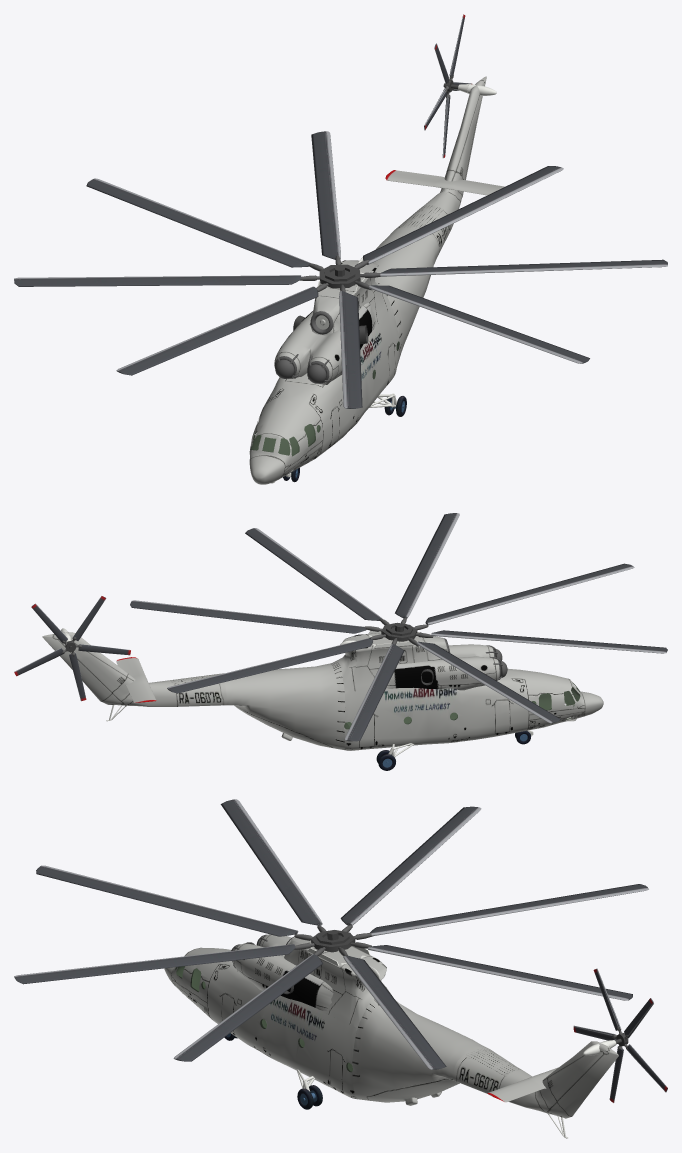
The picture shows the model from 3 angles, top to bottom: view 1: azimuth 30°, elevation 25°; view 2: azimuth 150°, elevation 25°; view 3: azimuth 270°, elevation 25°; orthographic projection. The views are drawn at different scales.
Visible parts, largest first — view 1: FUZEL-FACES, Object04-FACES, Object03-FACES, Cylinder60-FACES, Cylinder58-FACES, DV02-FACES, Cylinder59-FACES, Cylinder57-FACES, Cylinder64-FACES, Cylinder62-FACES, Cylinder61-FACES, Cylinder63-FACES (+5 smaller); view 2: FUZEL-FACES, Object04-FACES, Object03-FACES, DV02-FACES, Object06-FACES, Cylinder64-FACES, Cylinder57-FACES, Cylinder62-FACES, Cylinder63-FACES, Cylinder61-FACES, Cylinder58-FACES, Cylinder59-FACES (+5 smaller); view 3: FUZEL-FACES, Object04-FACES, Object03-FACES, Object06-FACES, Cylinder61-FACES, Cylinder63-FACES, DV02-FACES, Cylinder59-FACES, Cylinder62-FACES, Cylinder60-FACES, Cylinder58-FACES, Cylinder64-FACES (+3 smaller).
Boxes of the visible parts, box(x1,y1,x2,y2) form: FUZEL-FACES: box(249, 307, 399, 484); Object04-FACES: box(373, 228, 438, 367); Object03-FACES: box(394, 76, 486, 253); Cylinder60-FACES: box(14, 275, 301, 286); Cylinder58-FACES: box(86, 178, 310, 267); DV02-FACES: box(274, 303, 376, 384); Cylinder59-FACES: box(116, 286, 318, 375); Cylinder57-FACES: box(311, 131, 340, 259); Cylinder64-FACES: box(363, 166, 563, 264); Cylinder62-FACES: box(380, 259, 667, 276); Cylinder61-FACES: box(339, 291, 362, 408); Cylinder63-FACES: box(369, 285, 589, 363); FUZEL-FACES: box(344, 668, 603, 750); Object04-FACES: box(221, 660, 345, 749); Object03-FACES: box(42, 632, 226, 706); DV02-FACES: box(386, 644, 499, 690); Object06-FACES: box(338, 632, 447, 691); Cylinder64-FACES: box(130, 600, 366, 633); Cylinder57-FACES: box(167, 638, 372, 693); Cylinder62-FACES: box(245, 528, 382, 620); Cylinder63-FACES: box(395, 513, 459, 618); Cylinder61-FACES: box(425, 563, 634, 625); Cylinder58-FACES: box(344, 644, 404, 741); Cylinder59-FACES: box(431, 630, 667, 653); FUZEL-FACES: box(164, 947, 357, 1098); Object04-FACES: box(352, 999, 488, 1105); Object03-FACES: box(453, 1041, 618, 1118); Object06-FACES: box(284, 937, 391, 1028); Cylinder61-FACES: box(36, 865, 298, 936); Cylinder63-FACES: box(14, 944, 295, 984); DV02-FACES: box(232, 934, 333, 1010); Cylinder59-FACES: box(220, 799, 322, 925); Cylinder62-FACES: box(173, 954, 322, 1061); Cylinder60-FACES: box(340, 806, 481, 925); Cylinder58-FACES: box(370, 884, 648, 936); Cylinder64-FACES: box(343, 955, 446, 1069).
Size of the model in its own units: 34.01 by 13.04 by 33.3.
15 materials, 9 textured.
